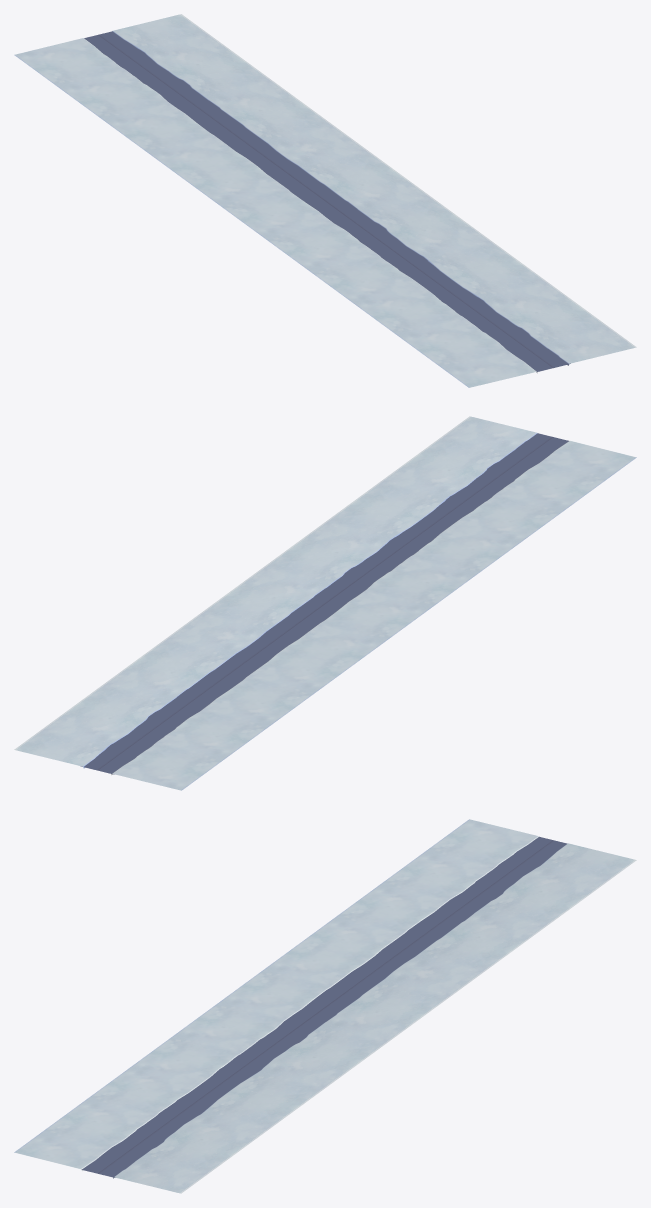
File: RPGBattle_BridgeFloor10.fbx
3 renders of one model, top to bottom at view 1: azimuth 30°, elevation 25°; view 2: azimuth 150°, elevation 25°; view 3: azimuth 330°, elevation 25°, orthographic.
Visible parts, largest first — view 1: RPGBattle_Bridge_10_1, RPGBattle_Bridge_10, RPGBattle_BridgeFloor10, Plane010; view 2: RPGBattle_Bridge_10_1, RPGBattle_Bridge_10, RPGBattle_BridgeFloor10, Plane010; view 3: RPGBattle_Bridge_10, RPGBattle_Bridge_10_1, RPGBattle_BridgeFloor10, Plane010.
Part boxes in pixels (<box>): RPGBattle_Bridge_10_1: <box>112,14,636,365</box>; RPGBattle_Bridge_10: <box>14,38,537,387</box>; RPGBattle_BridgeFloor10: <box>84,31,570,372</box>; Plane010: <box>95,33,557,368</box>; RPGBattle_Bridge_10_1: <box>14,416,537,768</box>; RPGBattle_Bridge_10: <box>111,441,636,790</box>; RPGBattle_BridgeFloor10: <box>80,433,568,774</box>; Plane010: <box>93,436,556,771</box>; RPGBattle_Bridge_10: <box>14,819,538,1170</box>; RPGBattle_Bridge_10_1: <box>113,843,636,1193</box>; RPGBattle_BridgeFloor10: <box>81,836,566,1177</box>; Plane010: <box>95,839,557,1174</box>.
Bounding box in the file's own units: 11730 × 127 × 55230.
